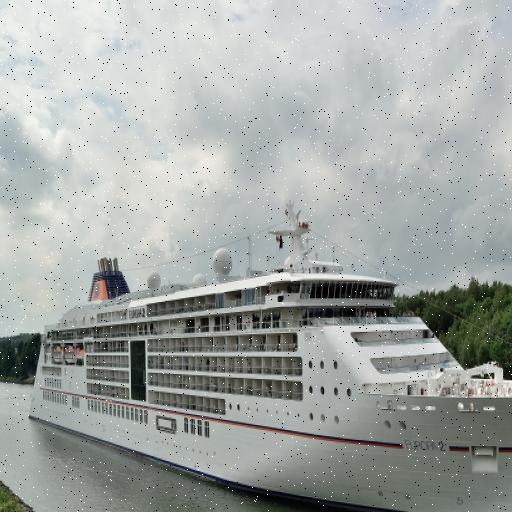cruises: (28, 195, 512, 512)
